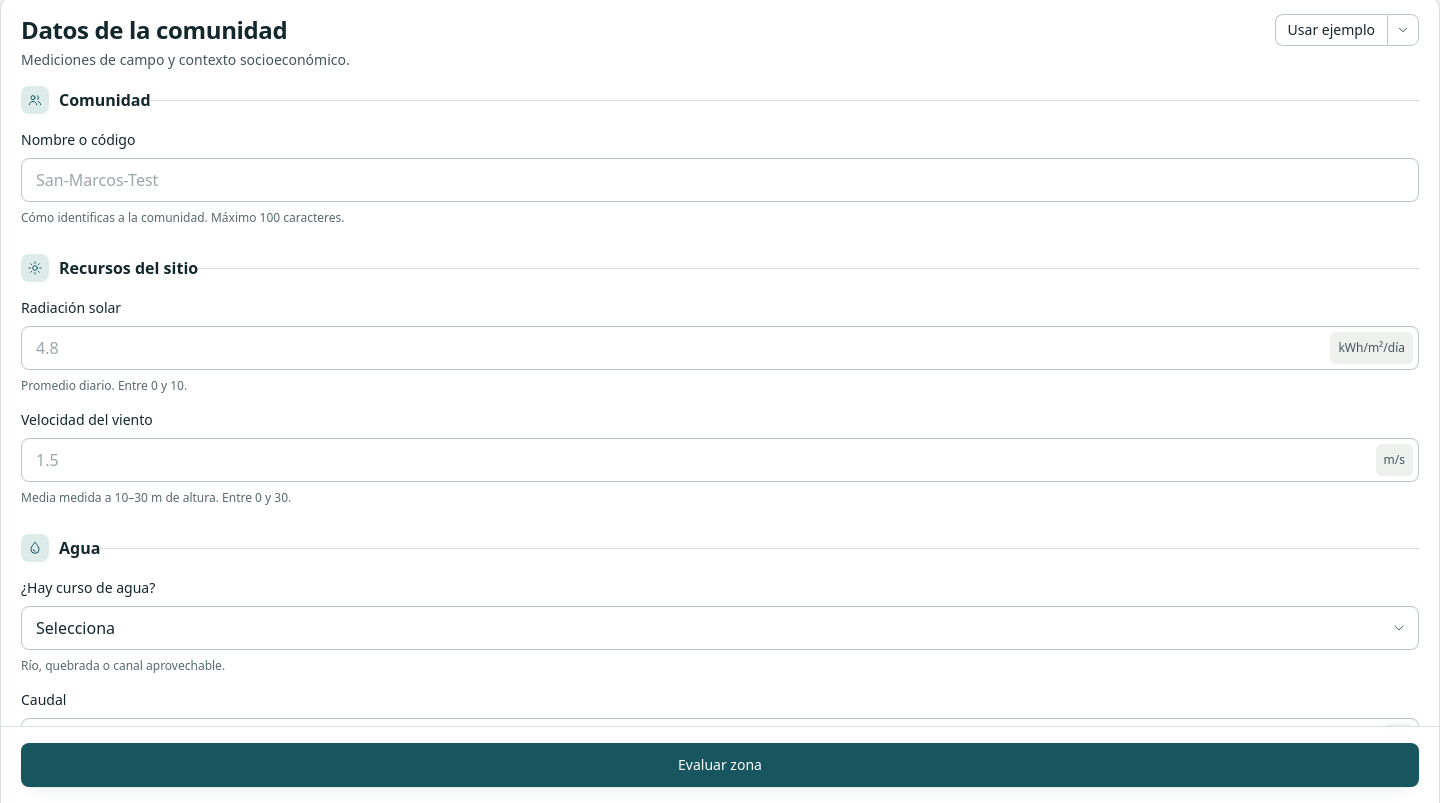
Test case: EvaluacionForm › permite seleccionar otros casos de ejemplo desde el menú desplegable
Click the button named "Seleccionar caso de ejemplo": (1403, 30) left=1387, top=14, right=1419, bottom=46
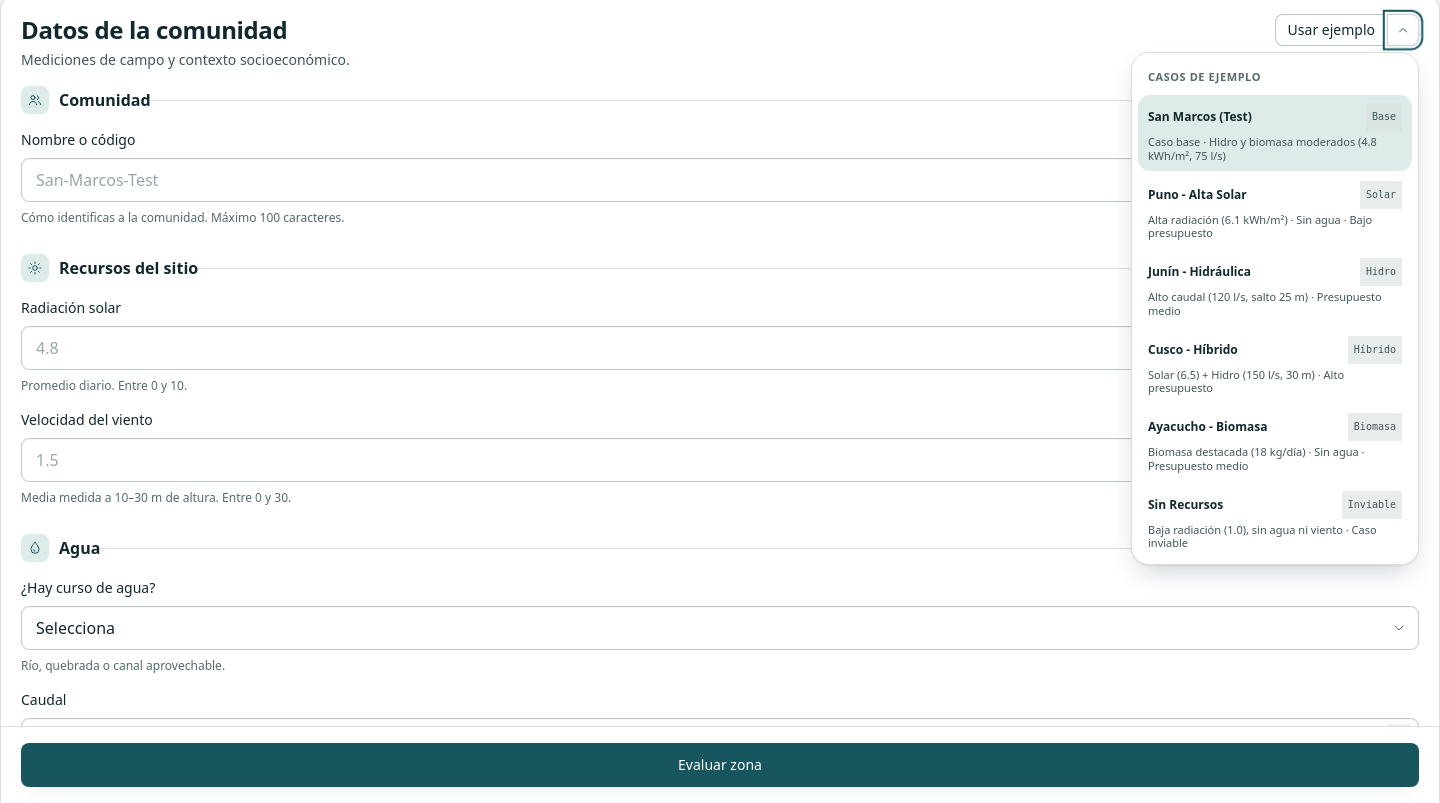
Check: the menu "Casos de ejemplo" is shown, box left=1131, top=52, right=1419, bottom=565
Click the text "Puno - Alta Solar": (1197, 194) left=1148, top=186, right=1247, bottom=202
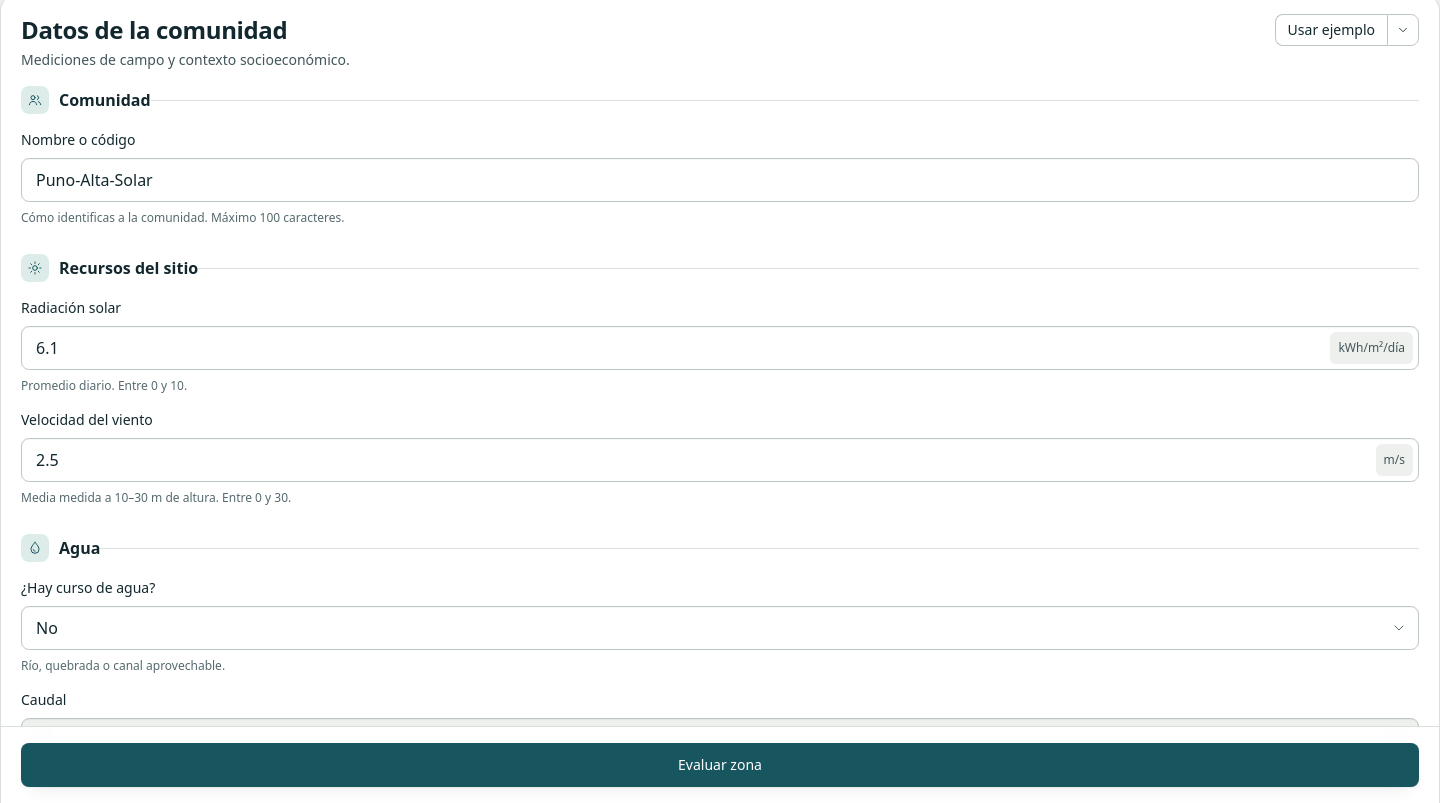
Check: the number field labelled "Caudal" is disabled, box left=21, top=718, right=1419, bottom=762
Check: the field labelled "Nombre o código" holds "Puno-Alta-Solar", box left=21, top=158, right=1419, bottom=202
Check: the number field labelled "Radiación solar" holds "6.1", box left=21, top=326, right=1419, bottom=370
Click the button named "Seleccionar caso de ejemplo": (1403, 30) left=1387, top=14, right=1419, bottom=46
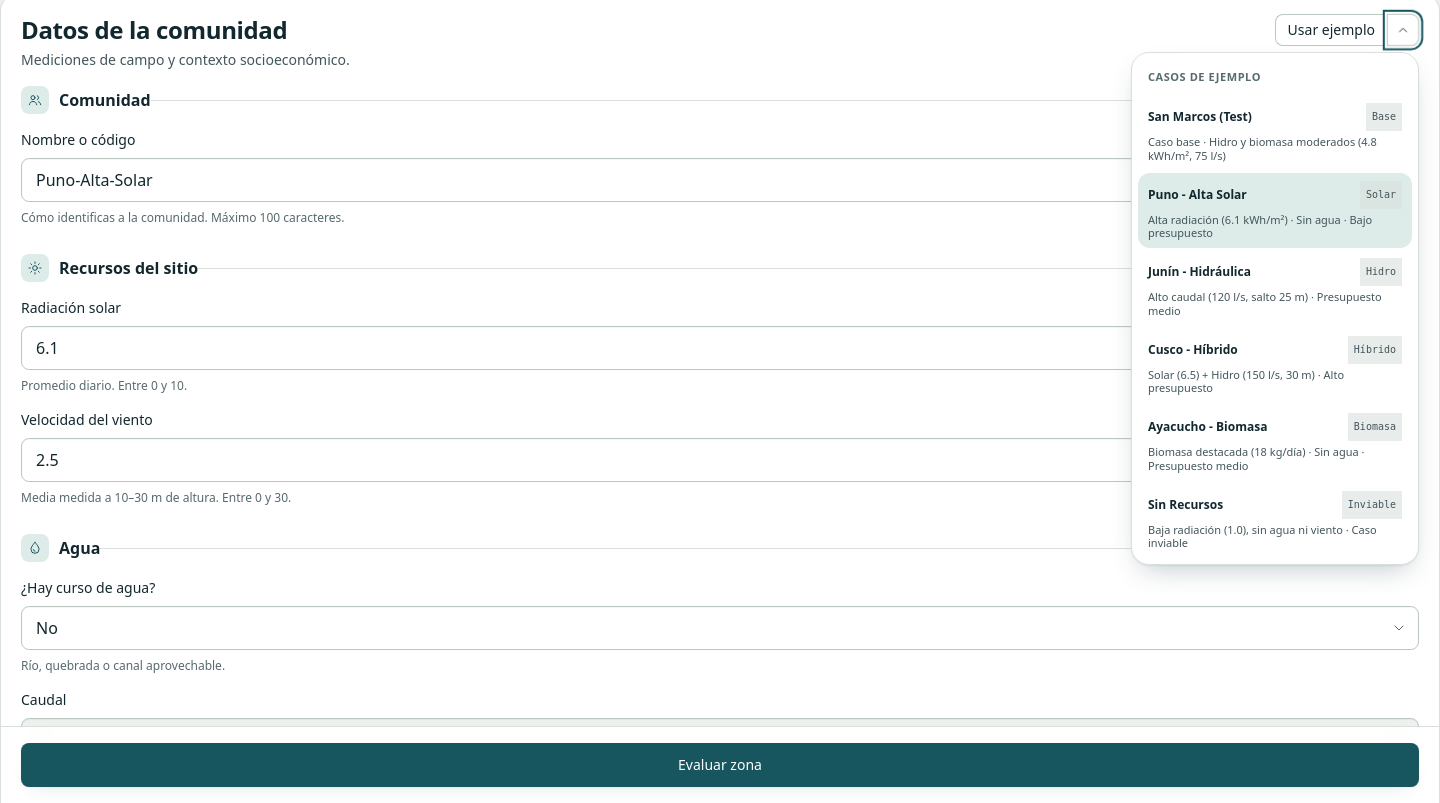
Click the text "Ayacucho - Biomasa": (1208, 427) left=1148, top=419, right=1267, bottom=435
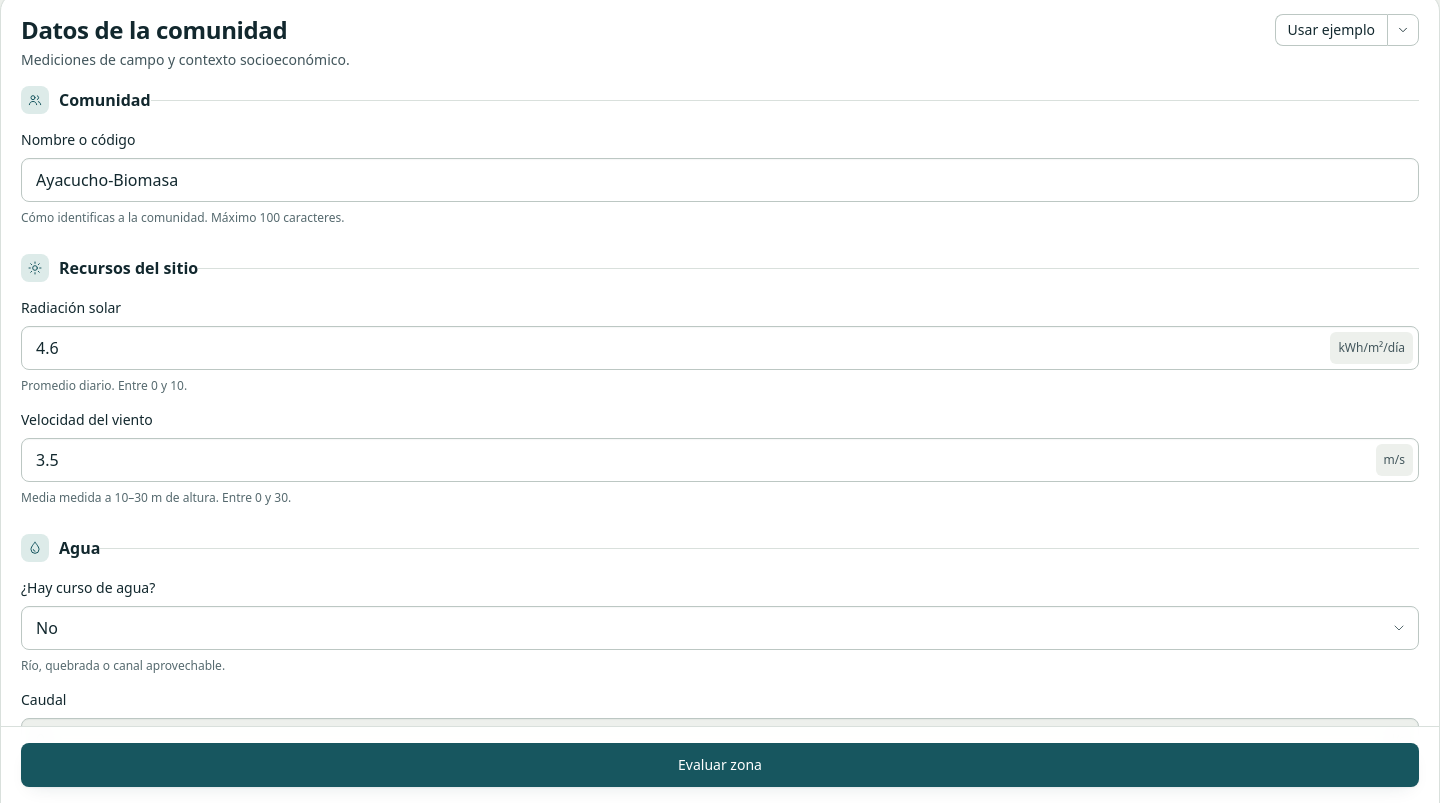
Check: the field labelled "Nombre o código" holds "Ayacucho-Biomasa", box left=21, top=158, right=1419, bottom=202
Click the button named "Seleccionar caso de ejemplo": (1403, 30) left=1387, top=14, right=1419, bottom=46
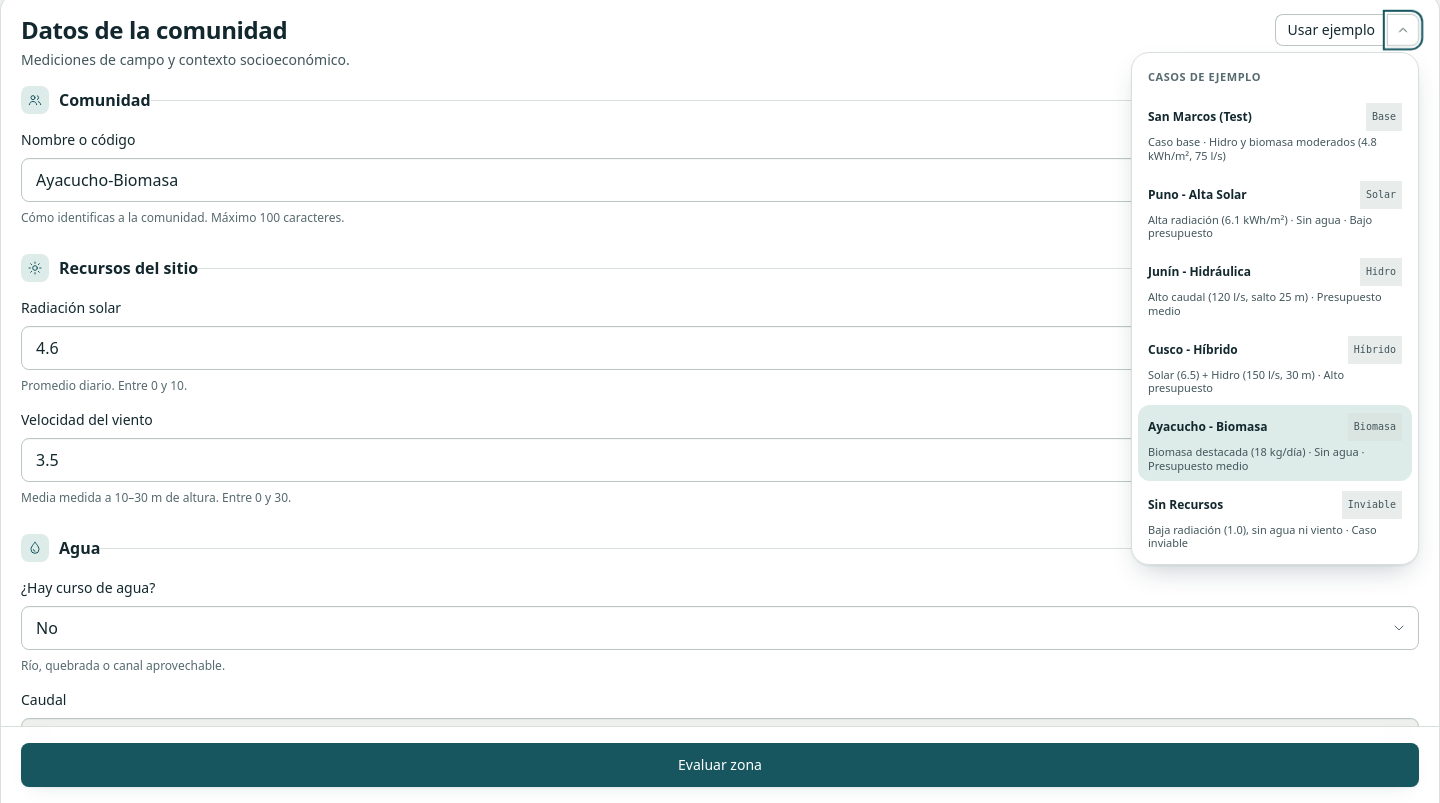
Click the text "Sin Recursos": (1186, 504) left=1148, top=496, right=1223, bottom=512
(page scrolled)
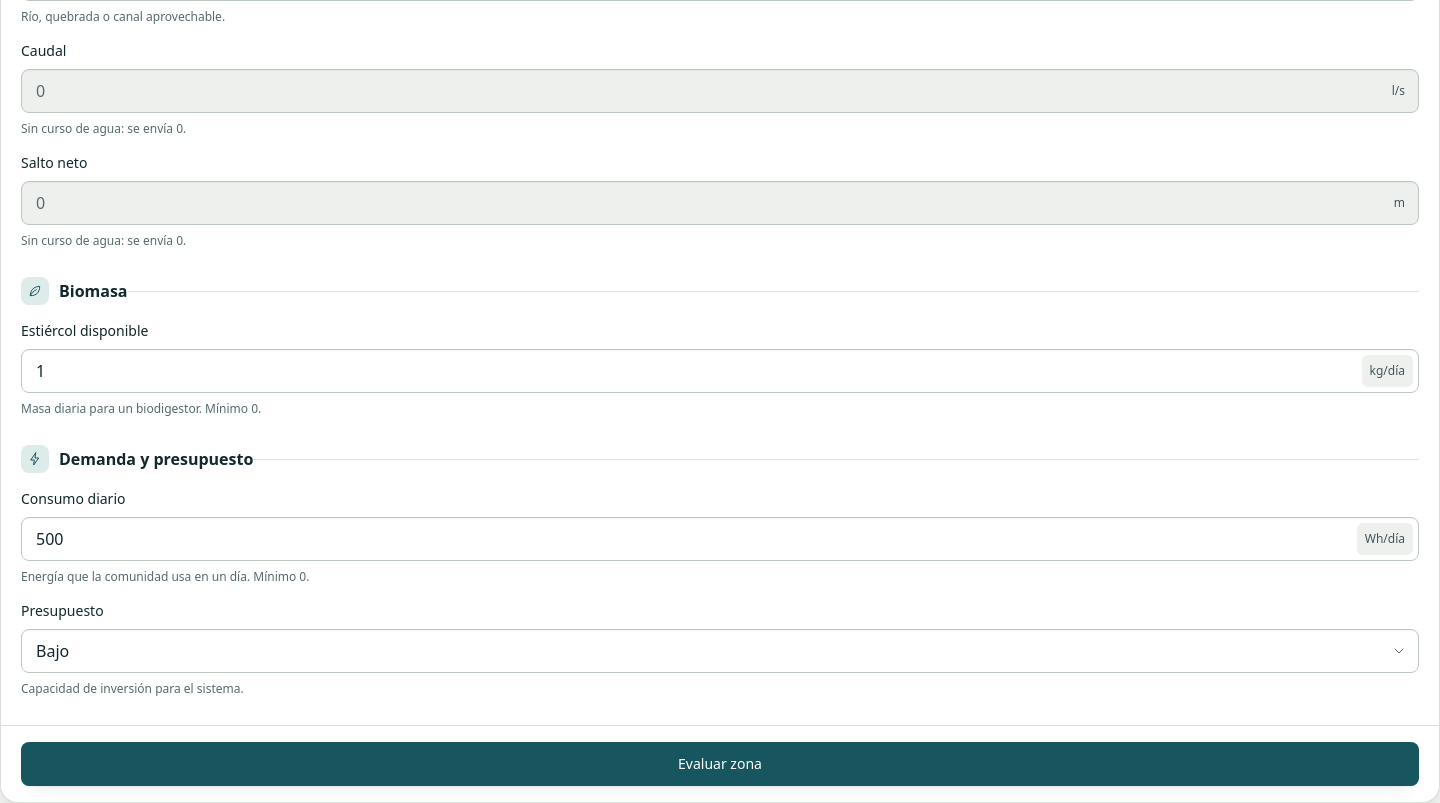
Check: the dropdown labelled "Presupuesto" shows "Bajo", box left=21, top=629, right=1419, bottom=673
